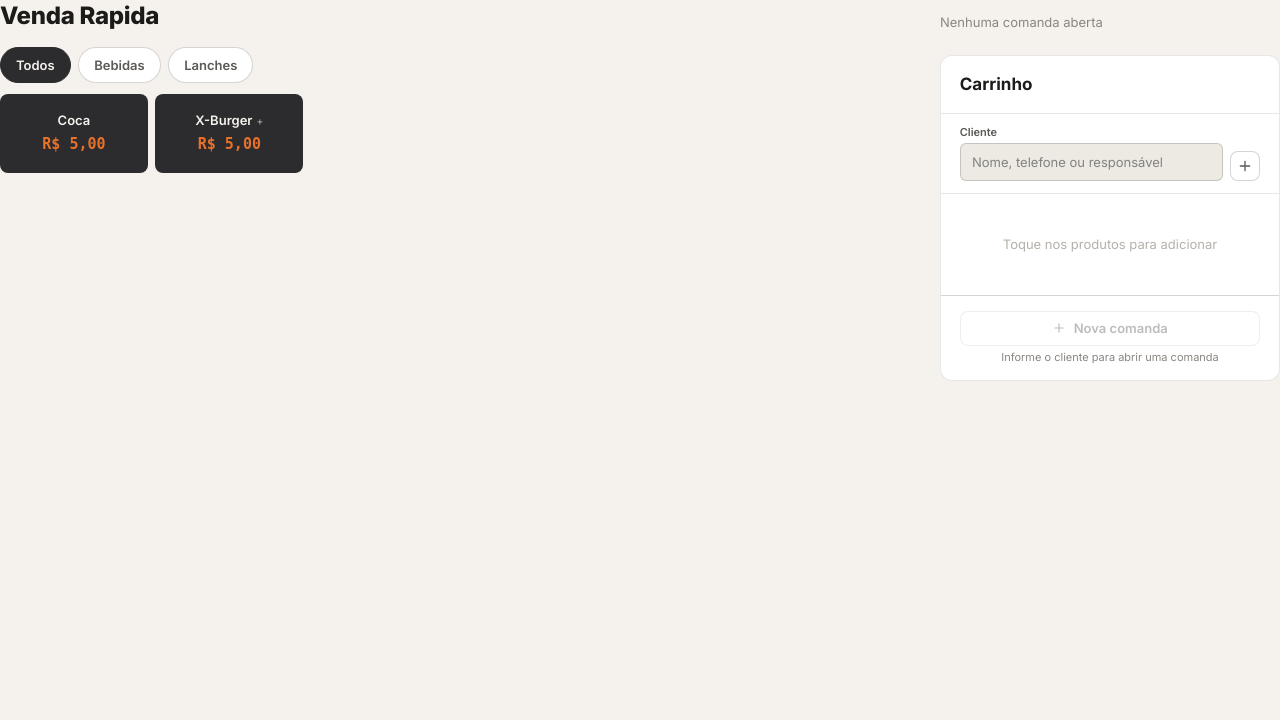
Test case: PdvPage › abre uma comanda nova, limpa a tela e vai para os pedidos
The image size is (1280, 720).
Expected: the text "Coca" is shown, [58,111,90,129]
Type "Maju" into the dropdown labelled "Cliente" at (1091, 162), box [960,143,1223,181]
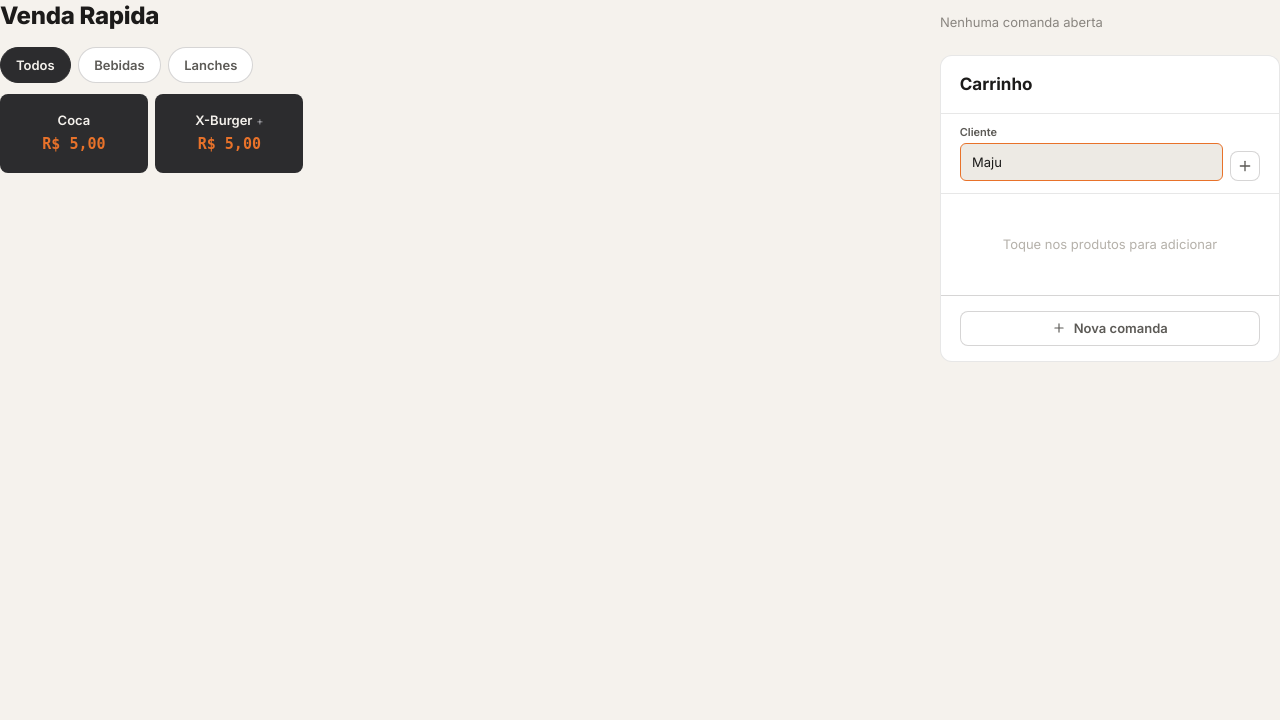
Click the button "Nova comanda" at (1110, 328), box [960,311,1260,346]
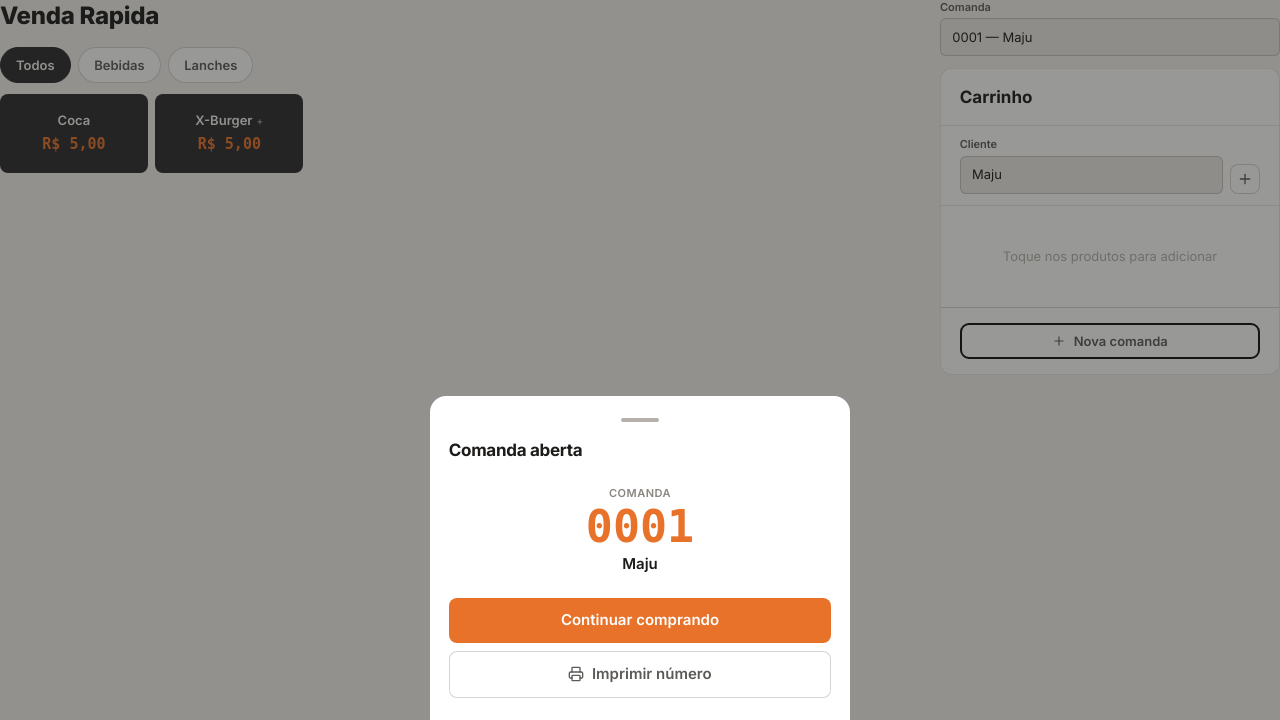
Expected: the text "0001" is shown, [586,504,694,549]
Click the button "Continuar comprando" at (640, 620), box [449,598,831,643]
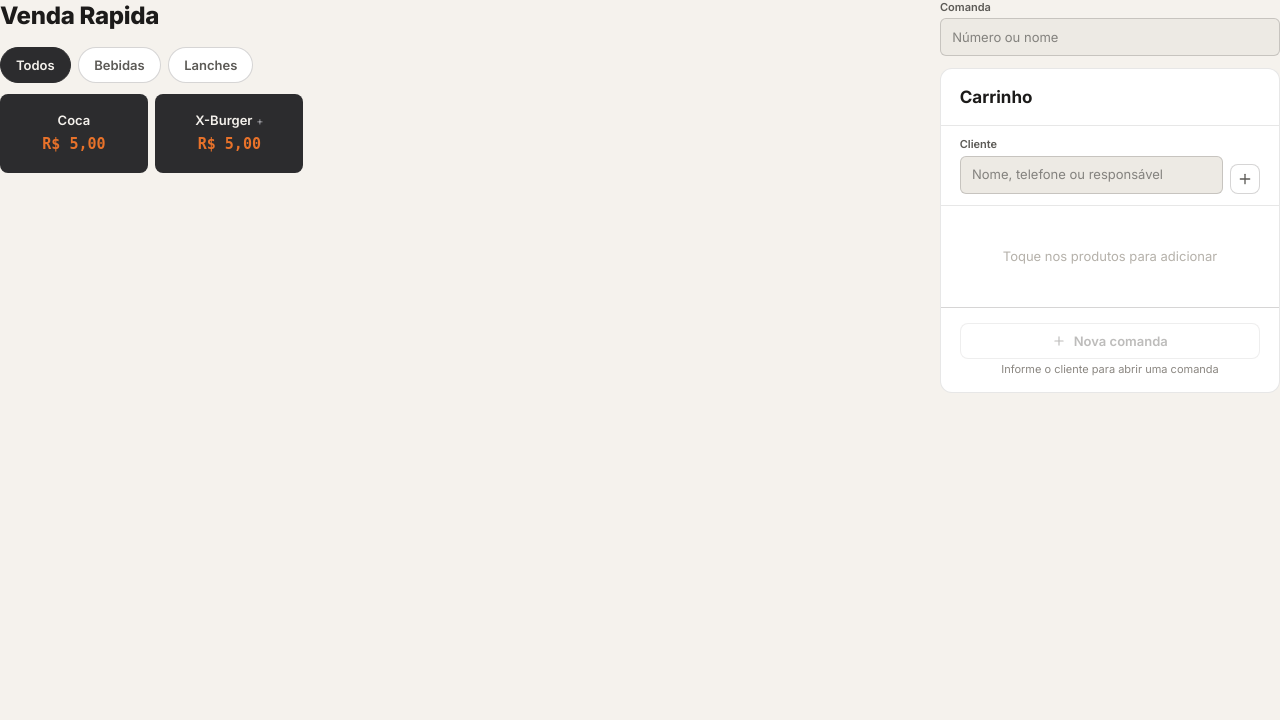
Expected: the dialog is gone
Expected: the dropdown labelled "Cliente" is empty, [960,156,1223,194]
